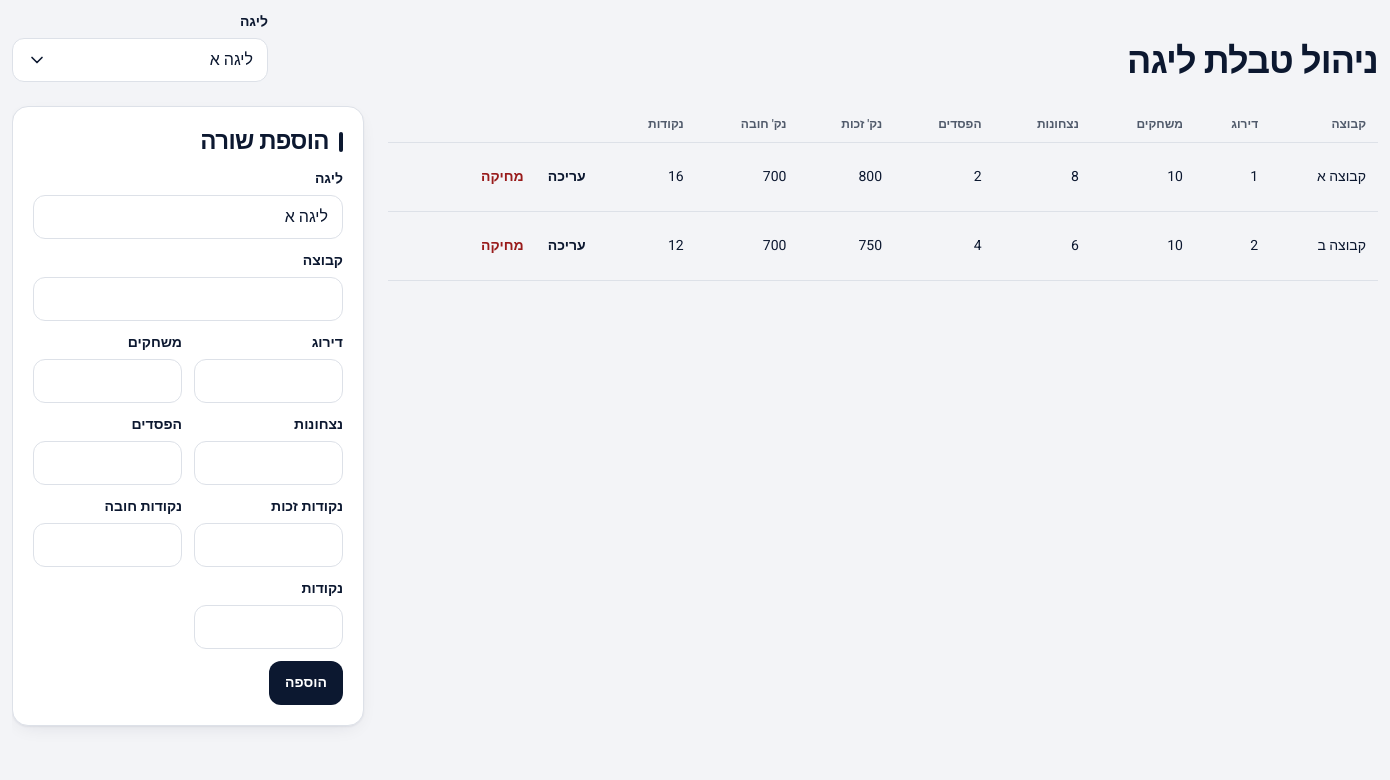
Test case: AdminStandingsView › clicking edit, changing a field and submitting PATCHes and updates the list
The width and height of the screenshot is (1390, 780).
Click the button "עריכה" in the row of "קבוצה א" at coordinates (567, 177), box [538,155,596,199]
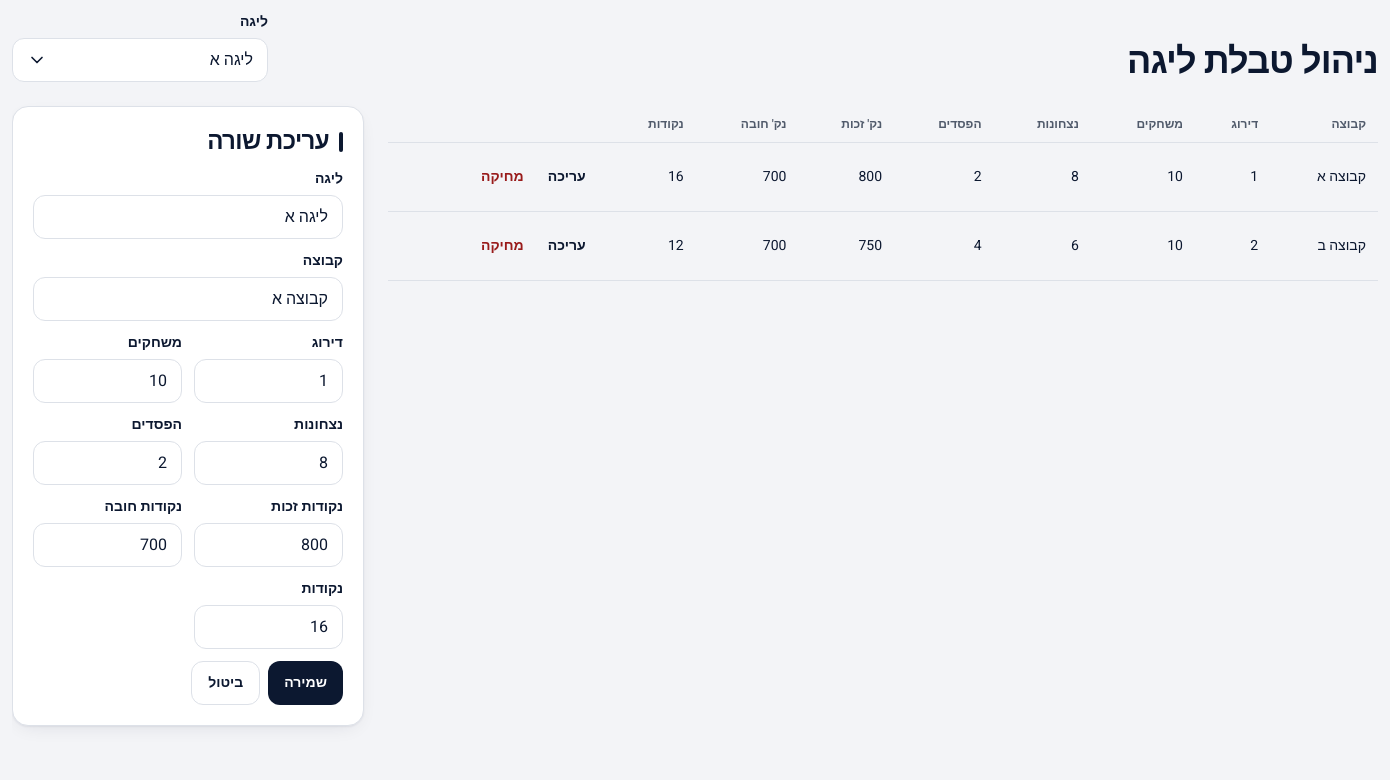
Replace the text in the number field with id "standing-played" with "11" at coordinates (108, 381), box [33,359,182,403]
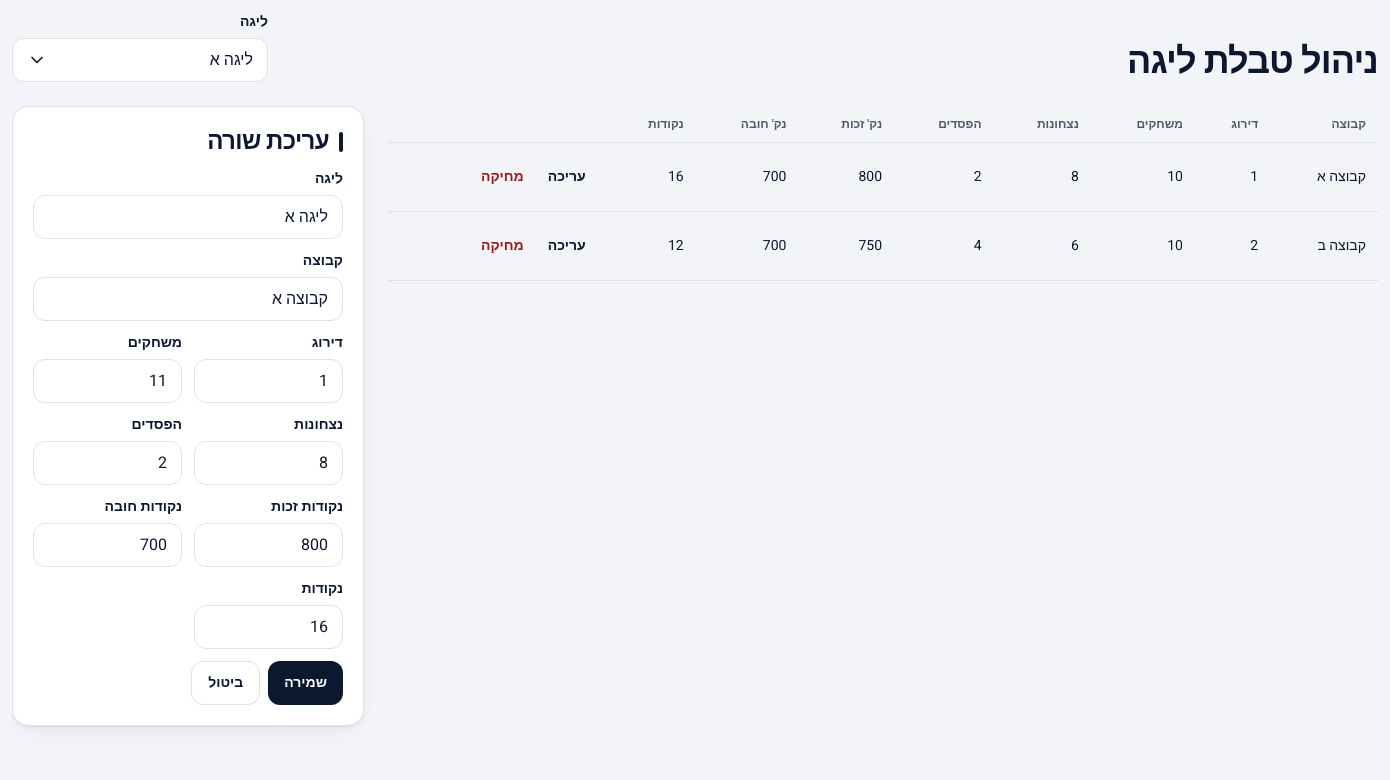
Replace the text in the number field with id "standing-won" with "9" at coordinates (268, 463), box [194,441,343,485]
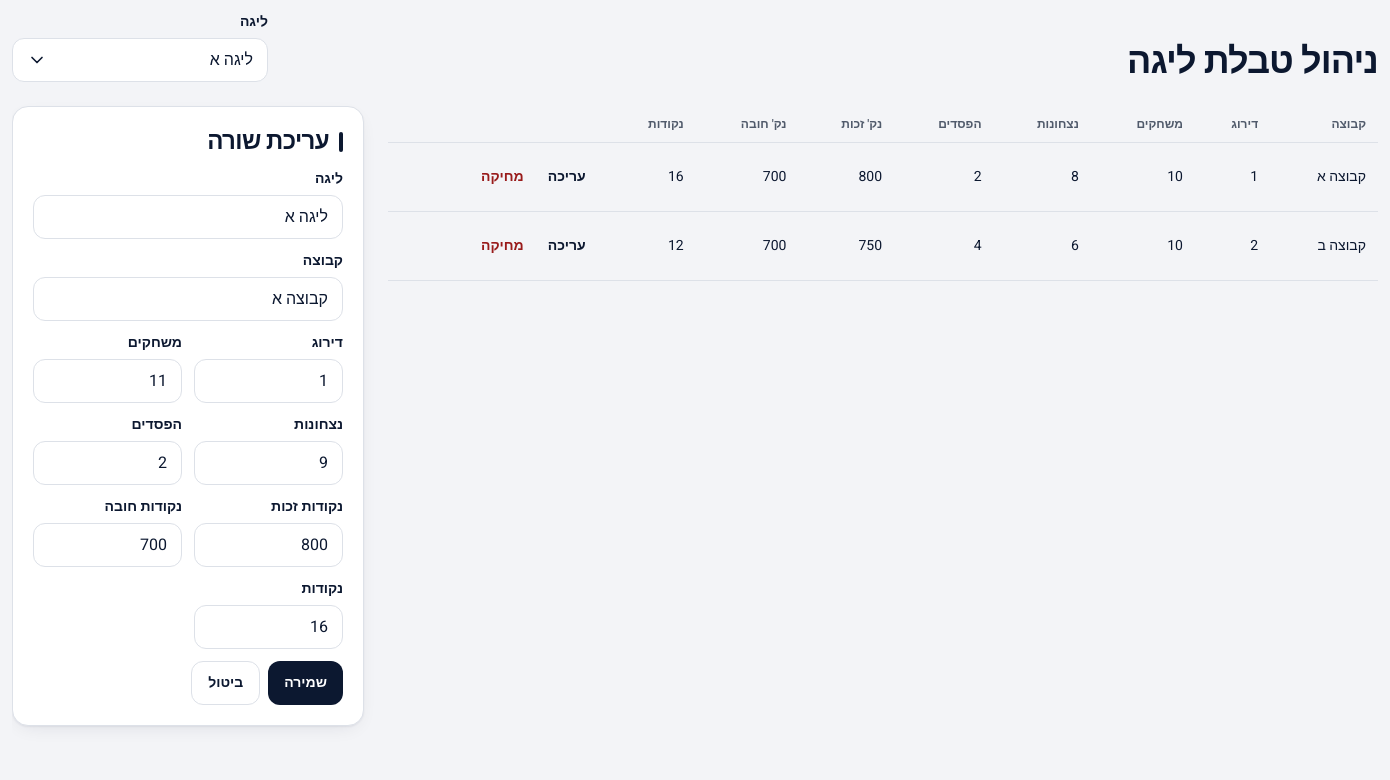
Replace the text in the number field with id "standing-points" with "18" at coordinates (268, 627), box [194,605,343,649]
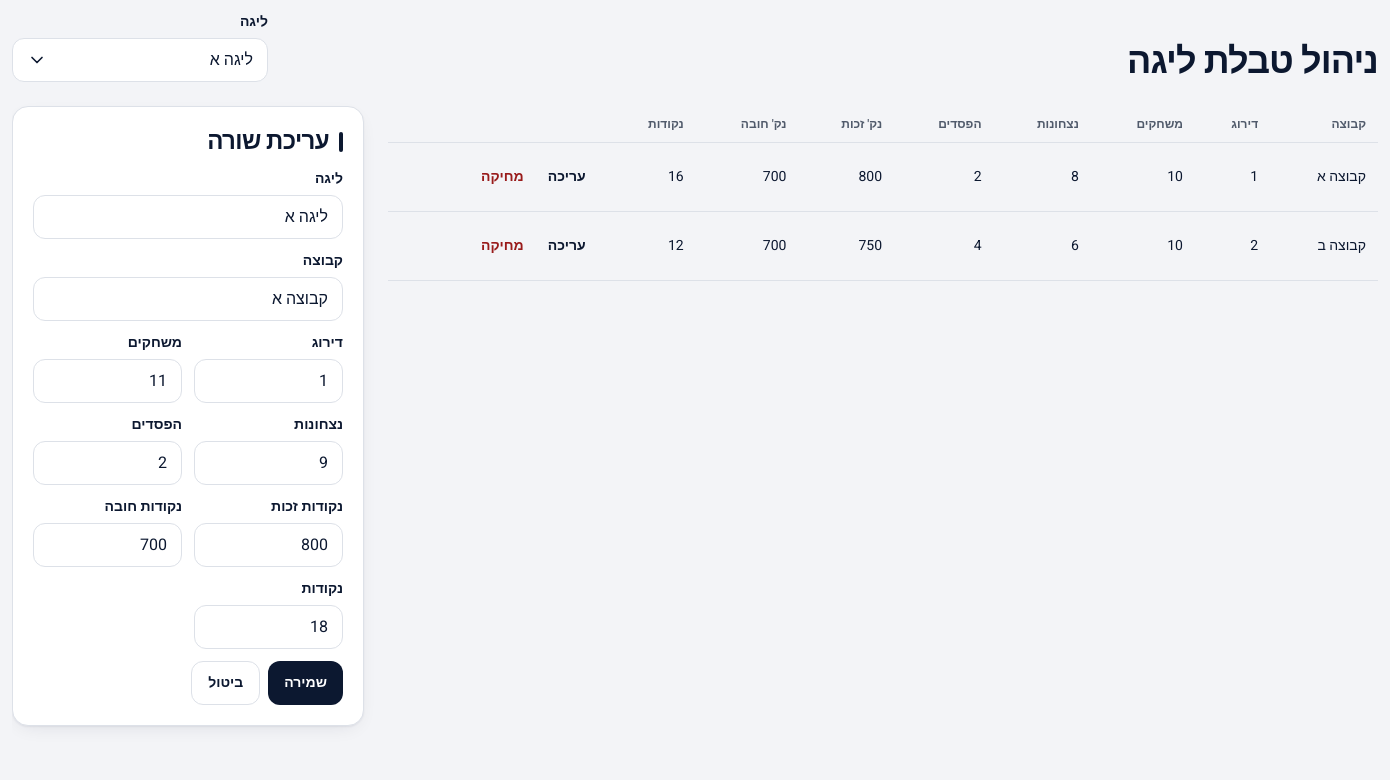
Submit the form, box [12,106,364,726]
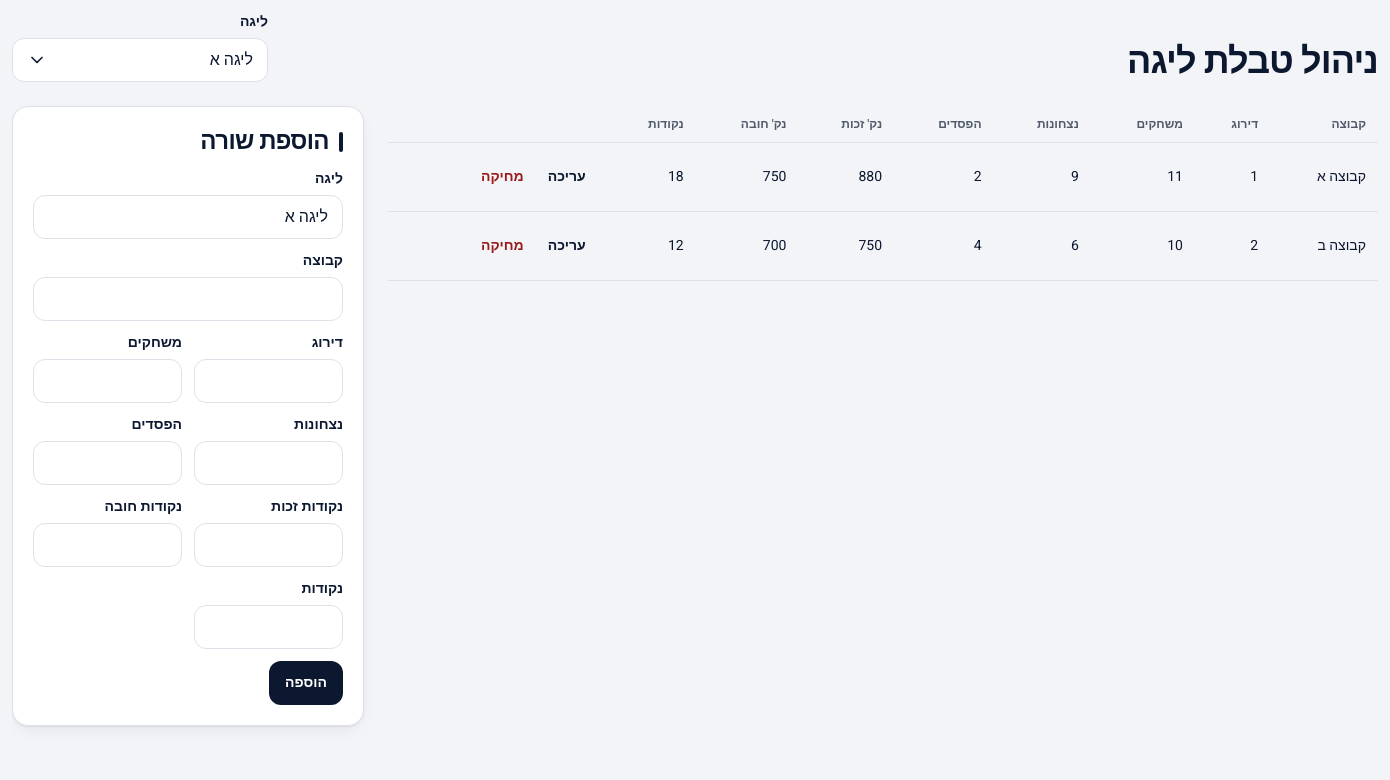
Result: the text "18" is shown at [608,142,696,212]
